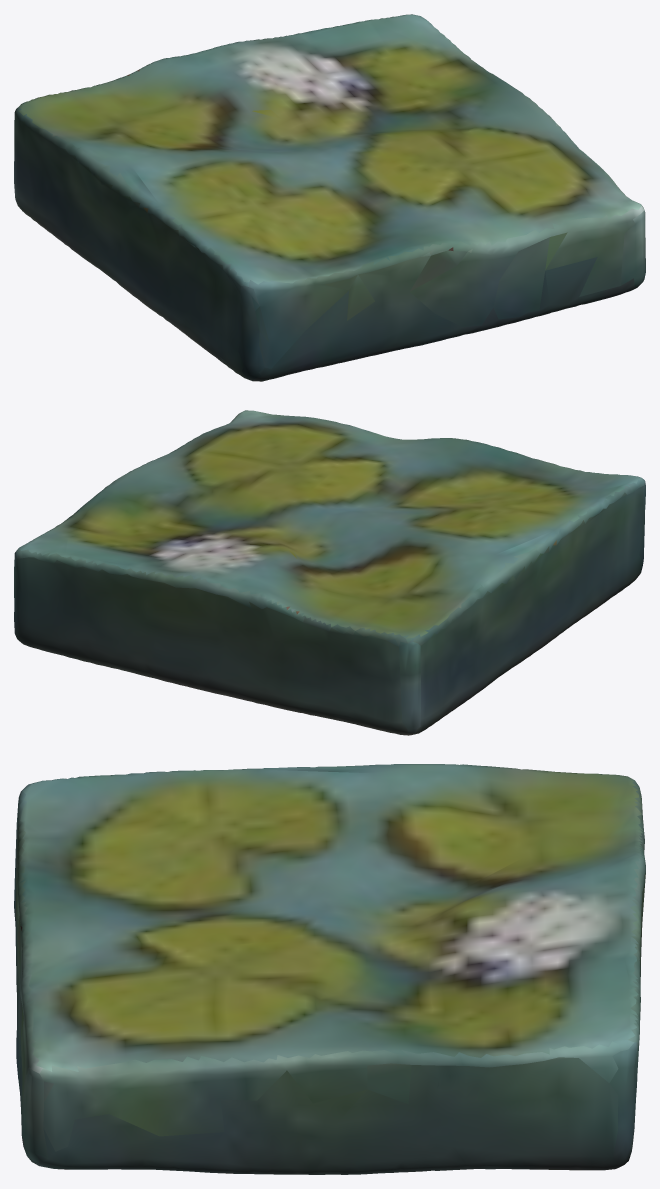
File: m04_agua_vitorias_regias.glb
The picture shows the model from 3 angles, top to bottom: view 1: azimuth 30°, elevation 25°; view 2: azimuth 150°, elevation 25°; view 3: azimuth 270°, elevation 25°; orthographic projection. The views are drawn at different scales.
Visible parts, largest first — view 1: m04_agua_vitorias_regias; view 2: m04_agua_vitorias_regias; view 3: m04_agua_vitorias_regias.
Boxes of the visible parts, x1,y1,x2,y2 form: m04_agua_vitorias_regias: (14,14,645,381); m04_agua_vitorias_regias: (14,410,645,735); m04_agua_vitorias_regias: (14,764,645,1174).
Size of the model in its own units: 0.9513 by 0.264 by 0.9512.
1 material, 1 textured.
